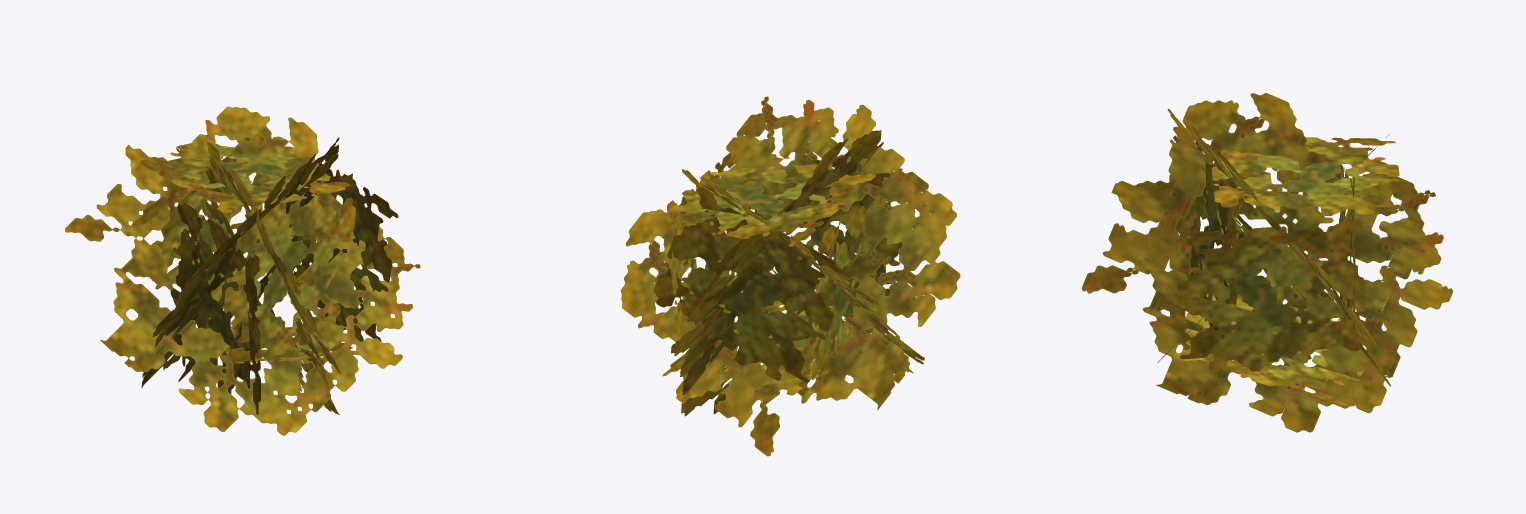
Rendered from beech_leaves_orangeish_4.obj.
3 views of the same model, side by side, from view 1: azimuth 30°, elevation 25°; view 2: azimuth 150°, elevation 25°; view 3: azimuth 270°, elevation 25° (orthographic). The views are drawn at different scales.
Visible parts, largest first — view 1: west, south, east, north, top, bottom; view 2: south, east, top, west, north, bottom; view 3: east, south, top, north, bottom, west.
Part boxes in pixels (x1=…): west: x1=65, y1=106, x2=420, y2=435; south: x1=141, y1=137, x2=398, y2=387; east: x1=131, y1=134, x2=340, y2=414; north: x1=170, y1=203, x2=260, y2=414; top: x1=139, y1=136, x2=350, y2=213; bottom: x1=214, y1=324, x2=359, y2=363; south: x1=621, y1=96, x2=960, y2=456; east: x1=654, y1=130, x2=902, y2=416; top: x1=668, y1=153, x2=876, y2=246; west: x1=682, y1=160, x2=924, y2=373; north: x1=810, y1=196, x2=886, y2=387; bottom: x1=662, y1=301, x2=854, y2=406; east: x1=1081, y1=93, x2=1452, y2=432; south: x1=1167, y1=108, x2=1391, y2=386; top: x1=1211, y1=137, x2=1402, y2=215; north: x1=1169, y1=167, x2=1333, y2=317; bottom: x1=1173, y1=293, x2=1363, y2=405; west: x1=1157, y1=134, x2=1389, y2=362.
Bounding box in the file's own units: 2.08 × 1.98 × 2.11.
